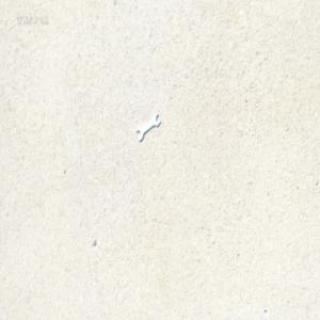Wrenchtrack_idkeyframe: (135, 112, 159, 142)
